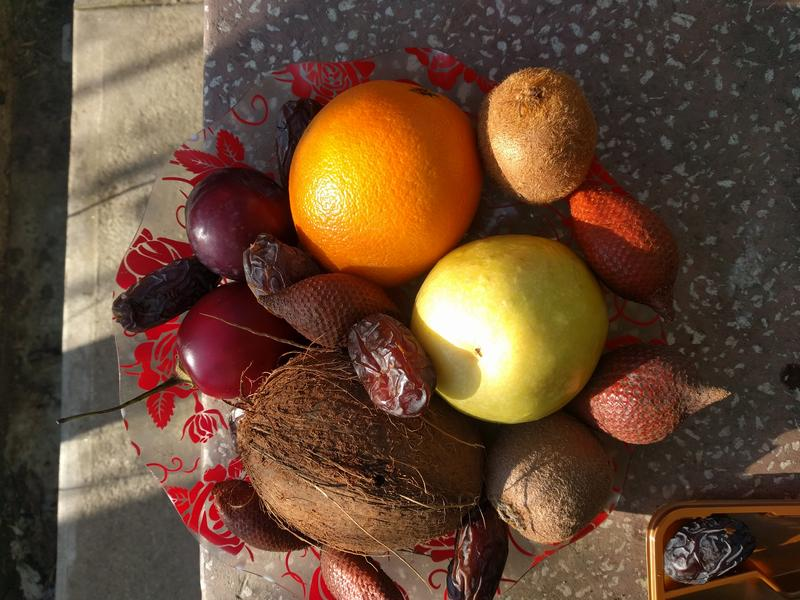orange: (283, 63, 493, 290)
